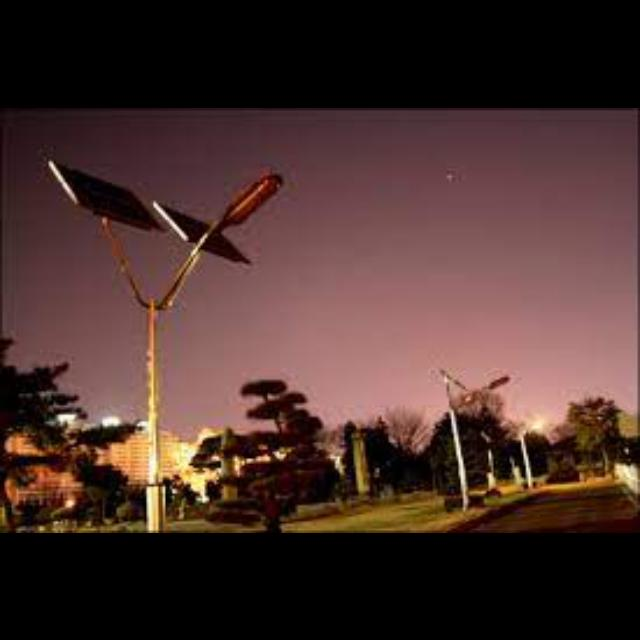Street-Lamp: (39, 125, 301, 532)
